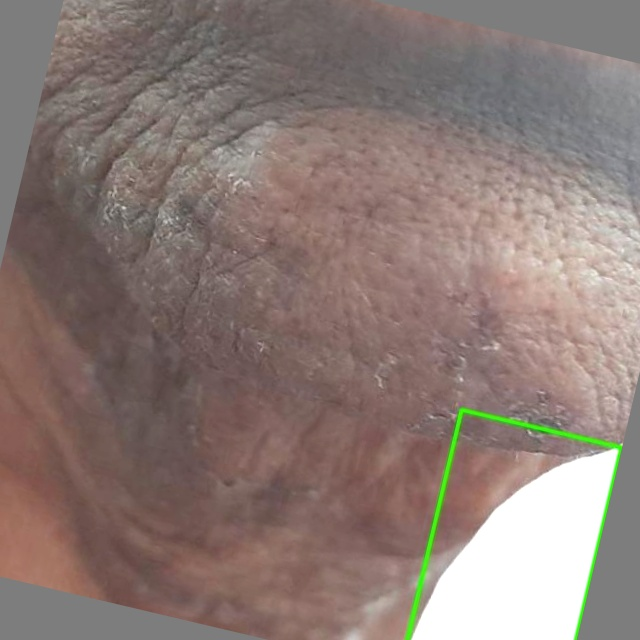Eczema: (407, 409, 621, 639)
